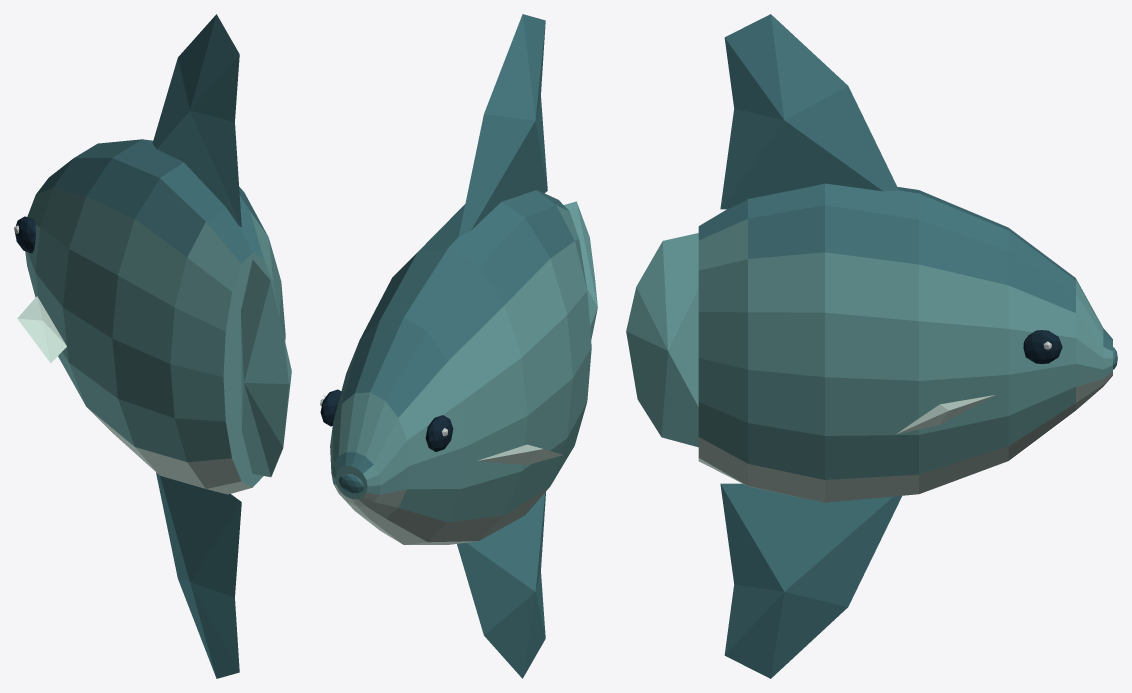
Rendered from wild_sunfish.glb.
The picture shows the model from 3 angles, left to right: view 1: azimuth 30°, elevation 25°; view 2: azimuth 150°, elevation 25°; view 3: azimuth 270°, elevation 25°; orthographic projection.
Visible parts, largest first — view 1: flat round body, tall sculling fin, tall sculling fin.001, rounded tail fringe, small rounded pectoral fin; view 2: flat round body, tall sculling fin, tall sculling fin.001, rounded tail fringe, small rounded pectoral fin; view 3: flat round body, tall sculling fin.001, tall sculling fin, rounded tail fringe, small rounded pectoral fin.001.
Boxes of the visible parts, x1,y1,x2,y2 form: flat round body: (14,139,285,494); tall sculling fin: (152,14,241,227); tall sculling fin.001: (156,472,241,678); rounded tail fringe: (240,259,291,477); small rounded pectoral fin: (17,296,66,363); flat round body: (320,190,591,544); tall sculling fin: (458,14,547,236); tall sculling fin.001: (457,492,545,678); rounded tail fringe: (564,201,597,339); small rounded pectoral fin: (476,444,562,464); flat round body: (698,183,1117,502); tall sculling fin.001: (720,483,901,678); tall sculling fin: (720,14,898,209); rounded tail fringe: (626,233,698,447); small rounded pectoral fin.001: (896,395,995,434).
Bounding box in the file's own units: 0.424 × 1.22 × 0.819.
